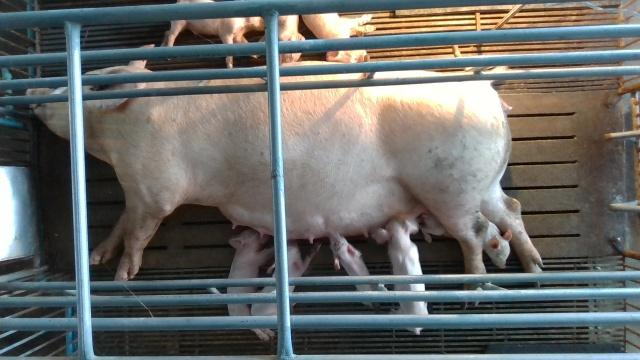piglet: (371, 215, 432, 335), (161, 0, 266, 68), (226, 230, 275, 341), (421, 212, 513, 270), (252, 241, 320, 317), (330, 234, 388, 307), (303, 12, 377, 62), (253, 14, 306, 62)
sow-sleep-lactate: (25, 42, 545, 307)
